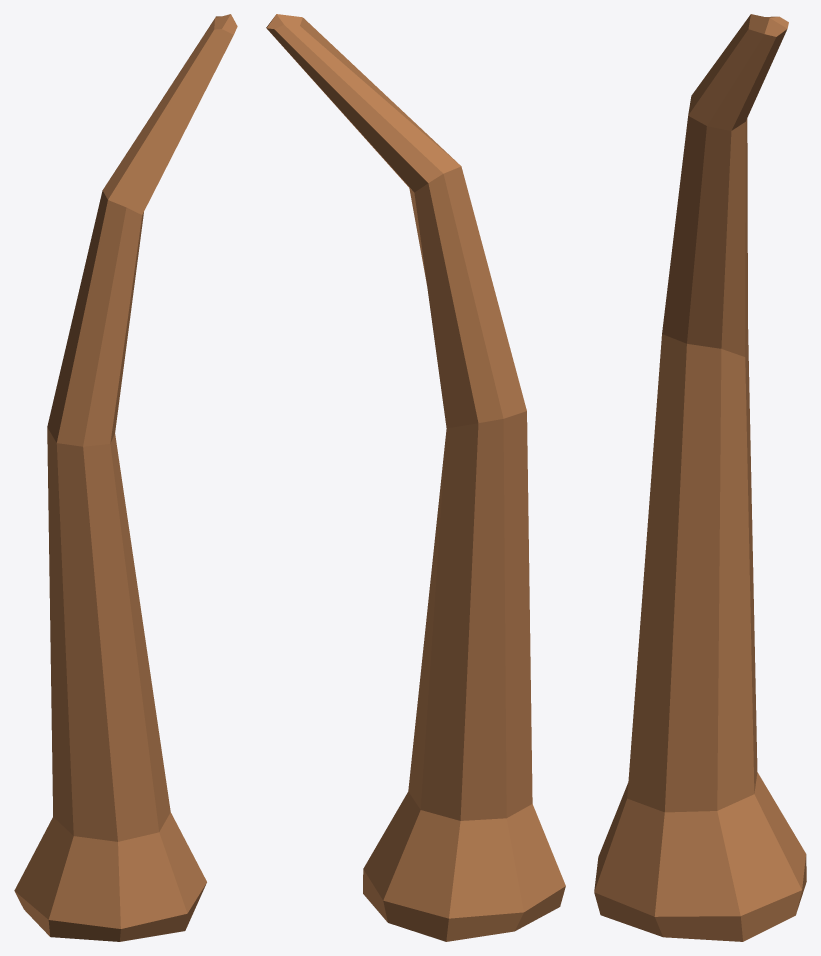
File: Tree13Rot.fbx
3 views of the same model, side by side, from view 1: azimuth 30°, elevation 25°; view 2: azimuth 150°, elevation 25°; view 3: azimuth 270°, elevation 25° (orthographic). The views are drawn at different scales.
Parts seen in each view (by area): view 1: Tree13Rot; view 2: Tree13Rot; view 3: Tree13Rot.
Part boxes in pixels (x1,y1,x2,y2): Tree13Rot: [14, 14, 237, 941]; Tree13Rot: [266, 14, 565, 941]; Tree13Rot: [594, 14, 806, 941].
Size of the model in its own units: 90.92 by 306 by 61.14.
